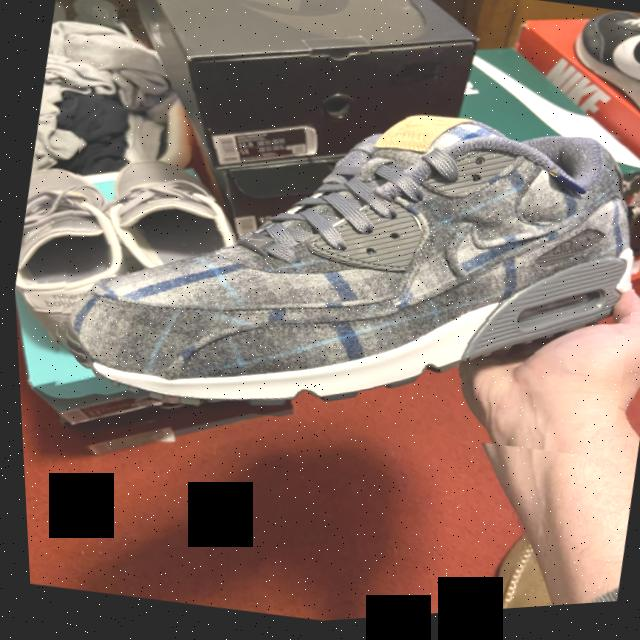shoe: (25, 35, 640, 497)
